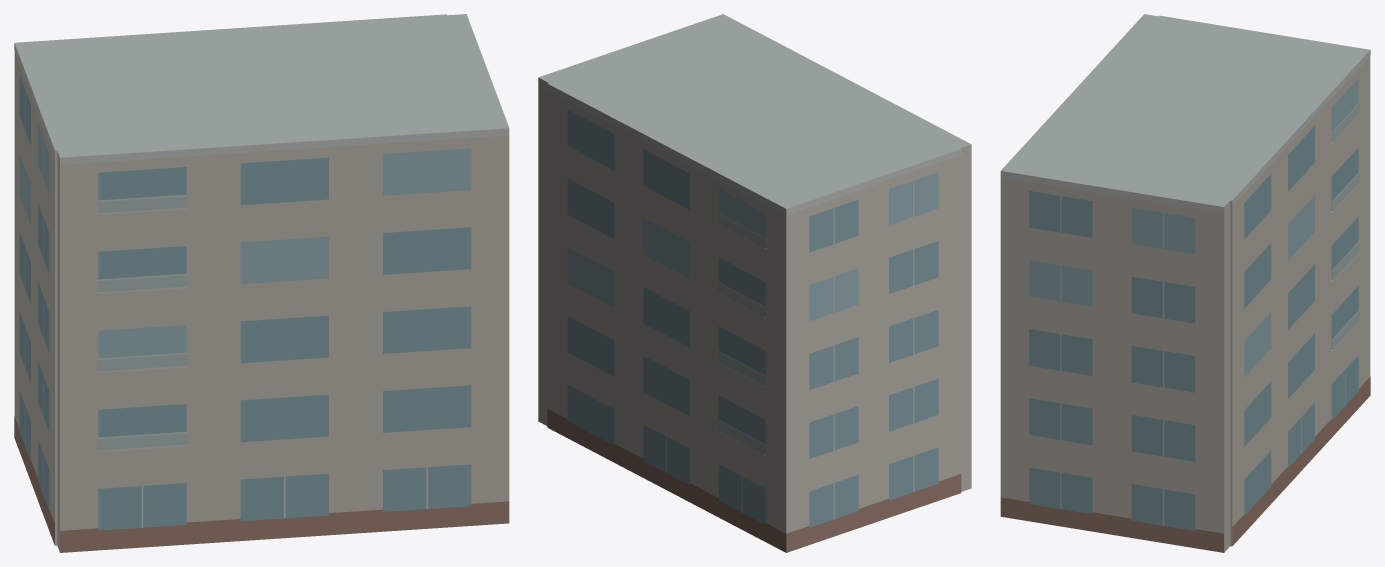
The model's file is survey-upis-32869768.glb.
The picture shows the model from 3 angles, left to right: view 1: azimuth 30°, elevation 25°; view 2: azimuth 150°, elevation 25°; view 3: azimuth 270°, elevation 25°; orthographic projection. The views are drawn at different scales.
Parts seen in each view (by area): view 1: survey-upis-32869768.tmp; view 2: survey-upis-32869768.tmp; view 3: survey-upis-32869768.tmp.
Part boxes in pixels (<box>): survey-upis-32869768.tmp: <box>14,14,509,552</box>; survey-upis-32869768.tmp: <box>538,14,971,552</box>; survey-upis-32869768.tmp: <box>1000,14,1370,552</box>.
Size of the model in its own units: 16.06 by 13.4 by 13.
